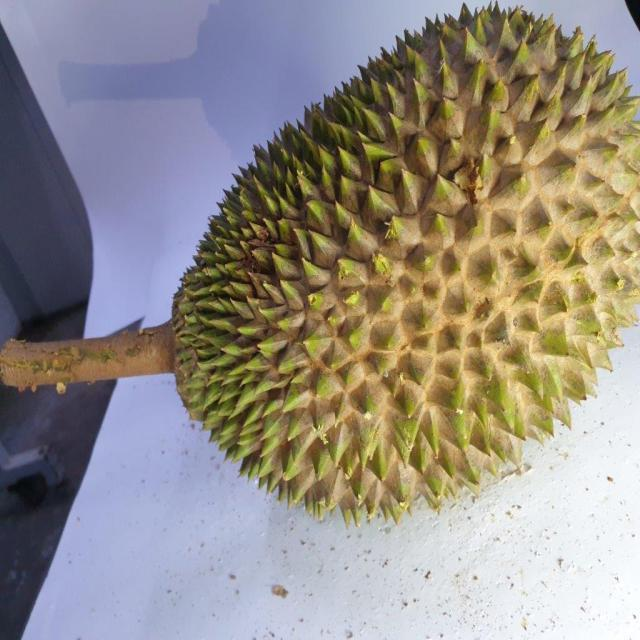mature: (178, 16, 640, 512)
